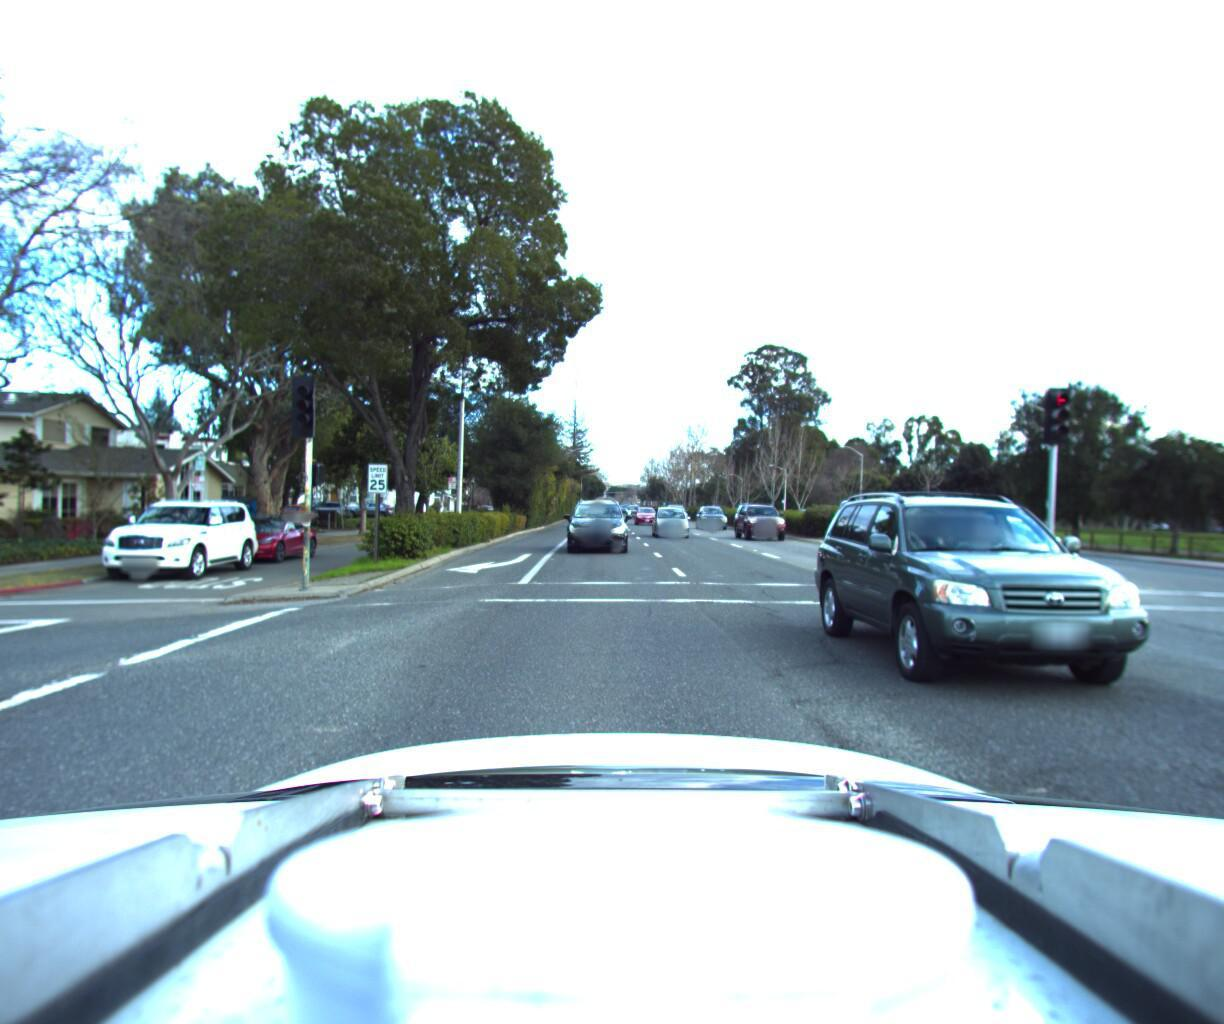car: (840, 481, 1224, 780), (955, 509, 1216, 630), (85, 493, 263, 584), (206, 507, 321, 563), (562, 494, 628, 554), (733, 491, 798, 538), (251, 497, 321, 524), (645, 497, 693, 533), (341, 497, 394, 518), (694, 501, 730, 527), (630, 497, 657, 521)
